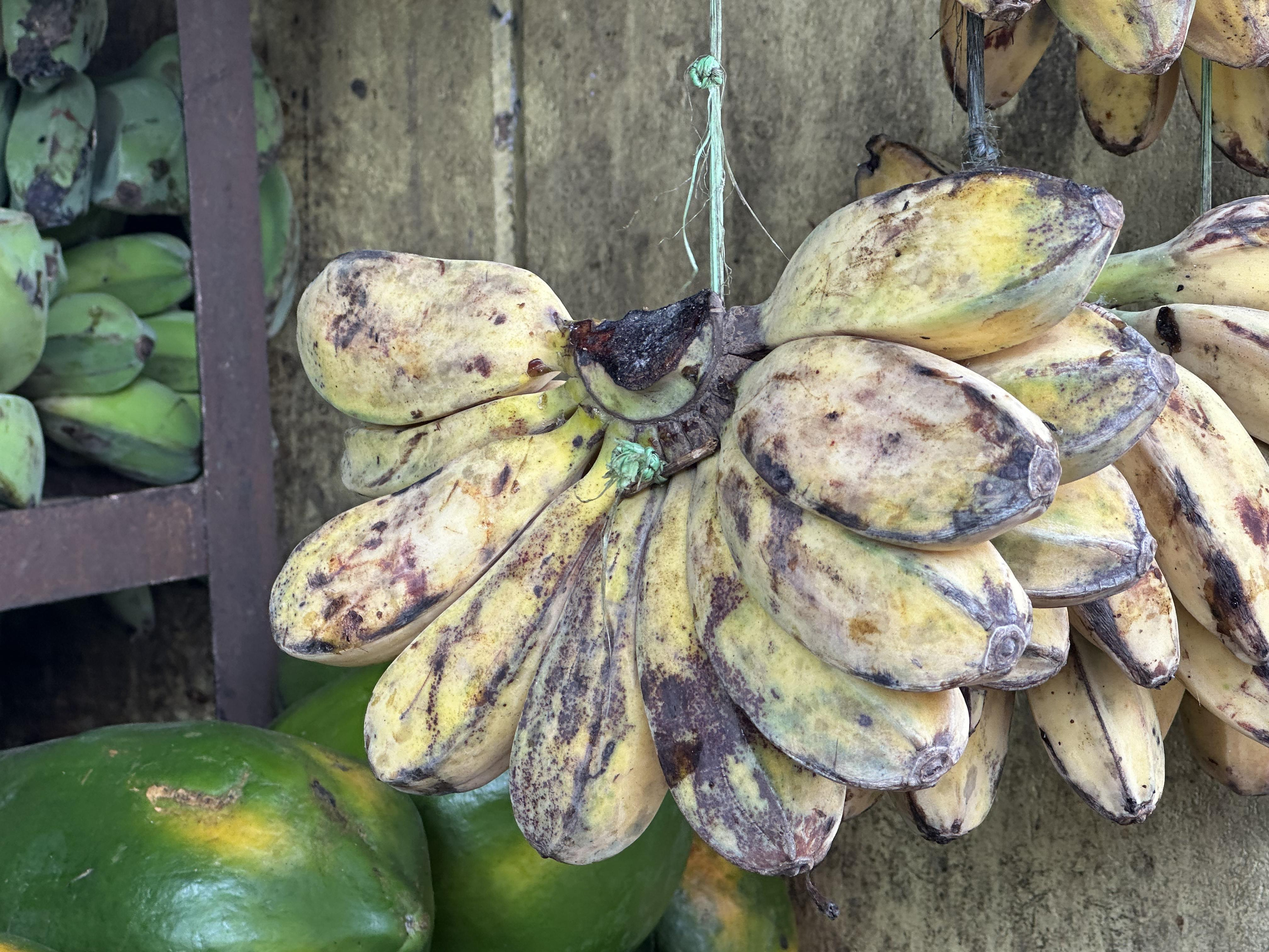ripe: (977, 197, 1269, 824)
underripe: (271, 169, 1179, 874), (0, 0, 189, 242), (20, 233, 201, 485)
